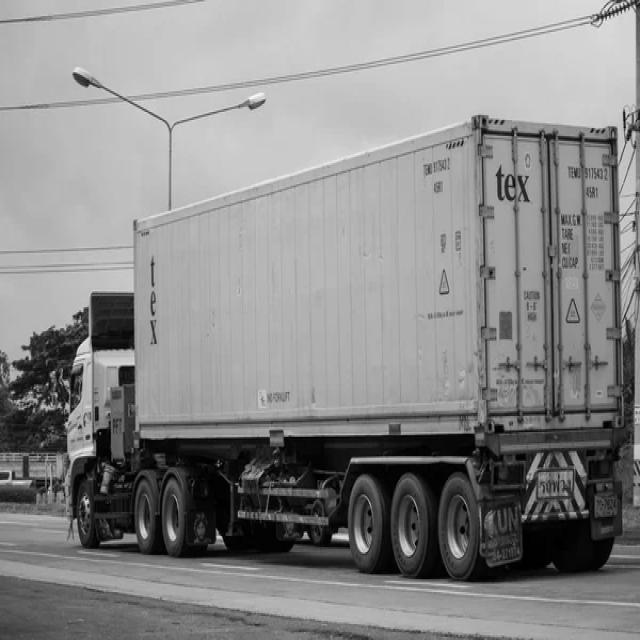Truck: (65, 115, 626, 580)
